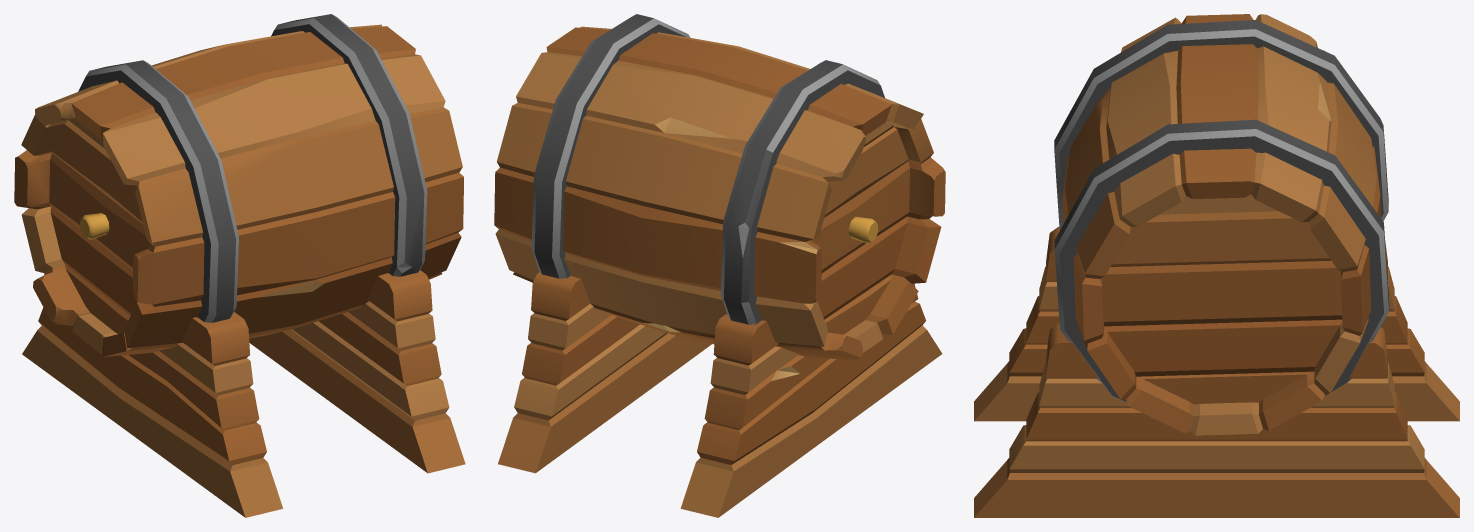
Rendered from Barrel_3_B.glb.
3 views of the same model, side by side, from view 1: azimuth 30°, elevation 25°; view 2: azimuth 150°, elevation 25°; view 3: azimuth 270°, elevation 25° (orthographic). The views are drawn at different scales.
Parts seen in each view (by area): view 1: Barrel_3_B; view 2: Barrel_3_B; view 3: Barrel_3_B.
Boxes of the visible parts, x1,y1,x2,y2 form: Barrel_3_B: (14,14,465,517); Barrel_3_B: (494,14,945,517); Barrel_3_B: (974,14,1459,517).
Bounding box in the file's own units: 1.01 × 1.05 × 1.2.
Materials: 2 (2 with a texture image).
